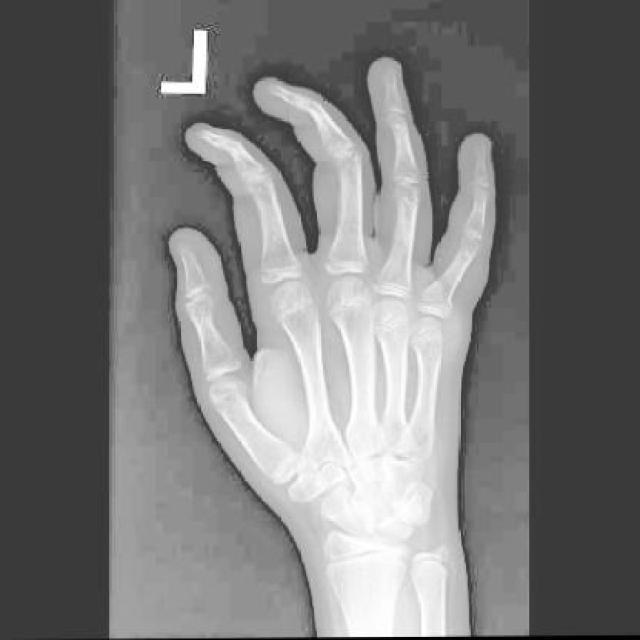Fracture: (420, 283, 457, 305)
